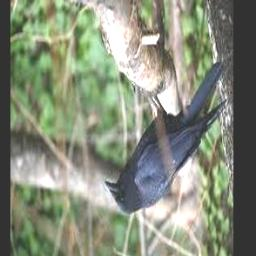Crow: (104, 58, 230, 215)
